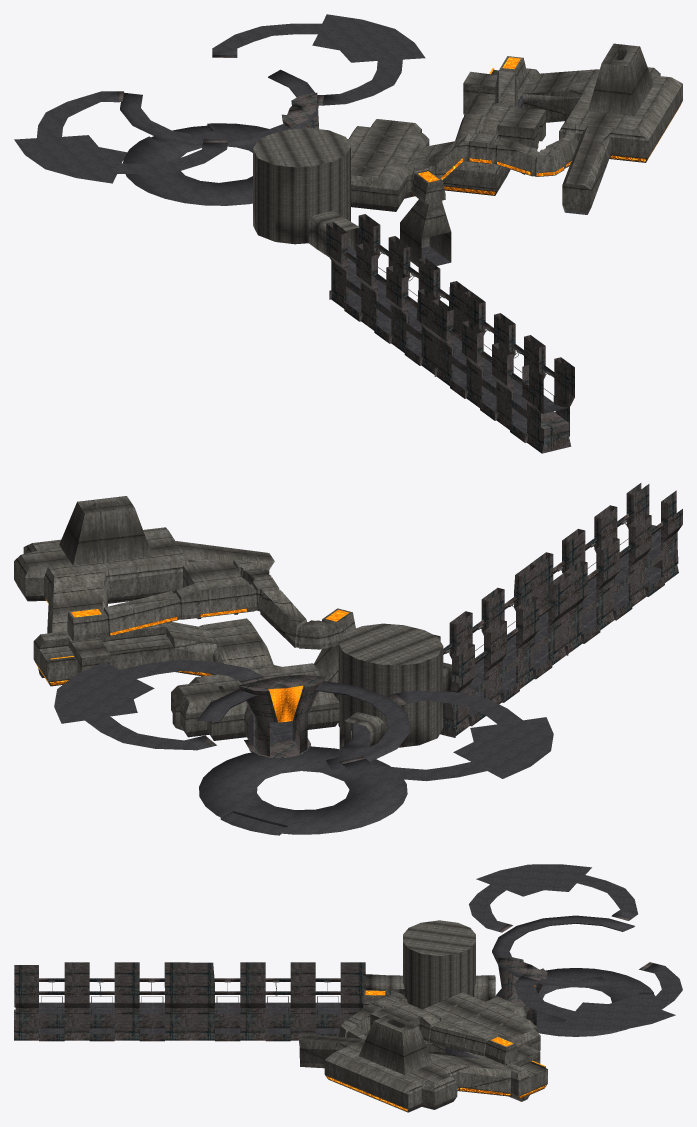
Rendered from coreRework.fbx.
3 views of the same model, one above another, from view 1: azimuth 30°, elevation 25°; view 2: azimuth 150°, elevation 25°; view 3: azimuth 270°, elevation 25° (orthographic). The views are drawn at different scales.
Parts seen in each view (by area): view 1: CoreCombat, Bridge.001, GroundCore, CoreMain.137, CoreMain.056; view 2: CoreCombat, GroundCore, Bridge.001, CoreMain.137, CoreMain.056; view 3: Bridge.001, CoreCombat, GroundCore, CoreMain.137, CoreMain.056.
Boxes of the visible parts, left/top/right/bottom form: CoreCombat: left=347, top=43, right=682, bottom=266; Bridge.001: left=326, top=214, right=574, bottom=453; GroundCore: left=14, top=14, right=425, bottom=254; CoreMain.137: left=253, top=128, right=359, bottom=256; CoreMain.056: left=282, top=92, right=319, bottom=129; CoreCombat: left=14, top=496, right=355, bottom=744; GroundCore: left=54, top=659, right=553, bottom=835; Bridge.001: left=434, top=483, right=682, bottom=737; CoreMain.137: left=338, top=623, right=451, bottom=748; CoreMain.056: left=238, top=675, right=325, bottom=758; Bridge.001: left=14, top=962, right=365, bottom=1041; CoreCombat: left=298, top=990, right=547, bottom=1112; GroundCore: left=469, top=864, right=682, bottom=1036; CoreMain.137: left=363, top=920, right=495, bottom=1009; CoreMain.056: left=497, top=957, right=547, bottom=1029.
Bounding box in the file's own units: 26061 × 6870 × 31942.
Materials: 4 (4 with a texture image).
